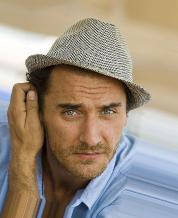face: (59, 101, 118, 161)
